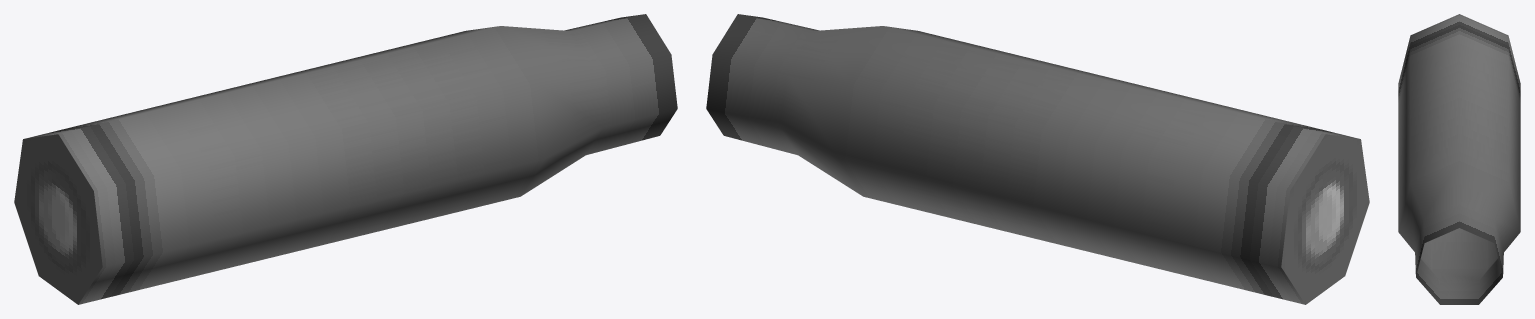
The model's file is 762Round_Spent.fbx.
3 views of the same model, side by side, from view 1: azimuth 30°, elevation 25°; view 2: azimuth 150°, elevation 25°; view 3: azimuth 270°, elevation 25° (orthographic). The views are drawn at different scales.
Visible parts, largest first — view 1: 762ammo_spent; view 2: 762ammo_spent; view 3: 762ammo_spent.
Part boxes in pixels (bbox=[...]): 762ammo_spent: bbox=[14, 14, 677, 304]; 762ammo_spent: bbox=[706, 14, 1369, 304]; 762ammo_spent: bbox=[1398, 14, 1520, 304].
Size of the model in its own units: 0.0768 by 0.0196 by 0.02.
